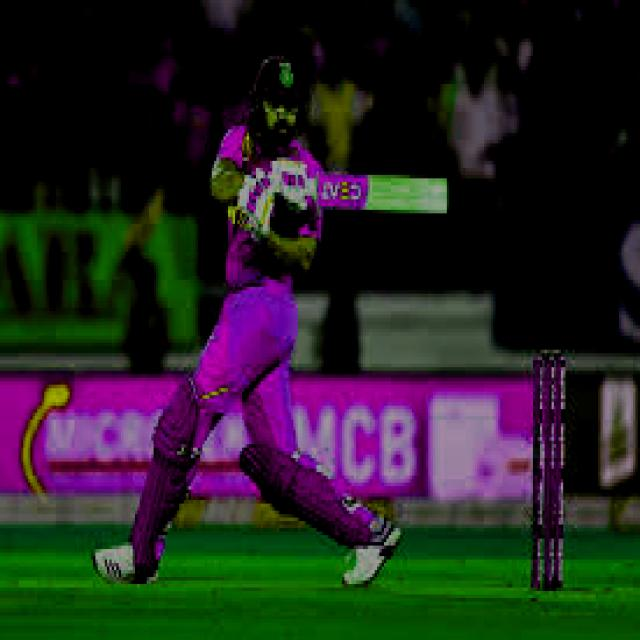toe: (427, 175, 452, 215)
